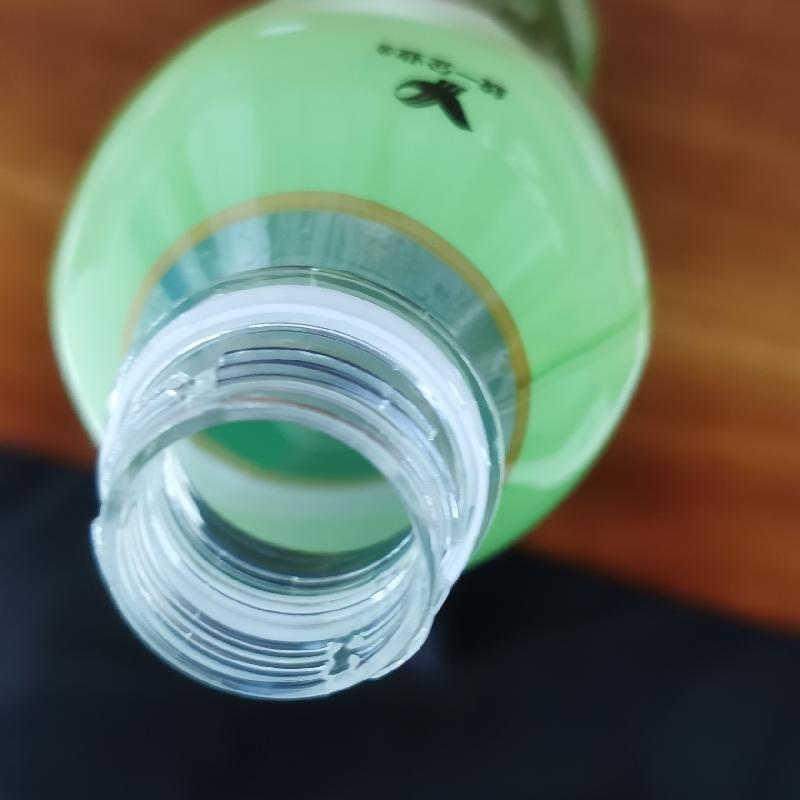bottles: (37, 0, 664, 704)
